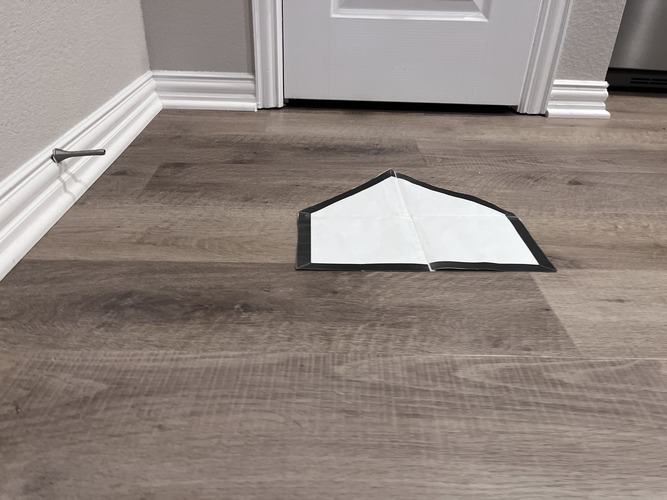homeplate: (293, 169, 556, 274)
